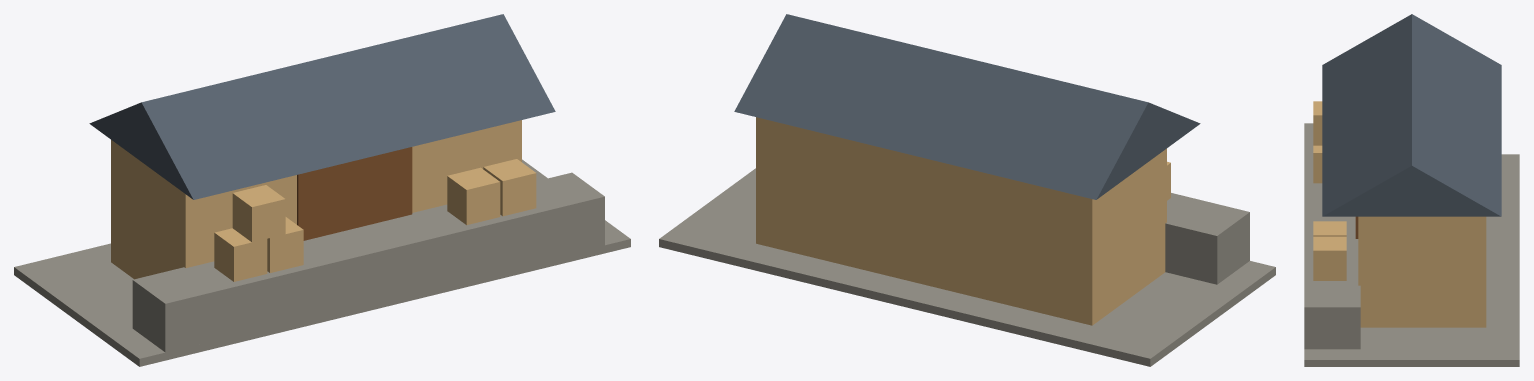
File: goods-shed.glb
3 renders of one model, left to right at view 1: azimuth 30°, elevation 25°; view 2: azimuth 150°, elevation 25°; view 3: azimuth 270°, elevation 25°, orthographic. The views are drawn at different scales.
Parts seen in each view (by area): view 1: stone, slate, wood, darkWood; view 2: wood, slate, stone; view 3: slate, stone, wood.
Part boxes in pixels (<box>): stone: <box>14,159,630,366</box>; slate: <box>89,14,555,199</box>; wood: <box>111,120,536,281</box>; darkWood: <box>297,147,412,240</box>; wood: <box>756,117,1170,325</box>; slate: <box>734,14,1200,199</box>; stone: <box>659,168,1275,366</box>; slate: <box>1322,14,1501,216</box>; stone: <box>1304,123,1519,366</box>; wood: <box>1313,101,1486,327</box>.
Bounding box in the file's own units: 190 × 75 × 84.
